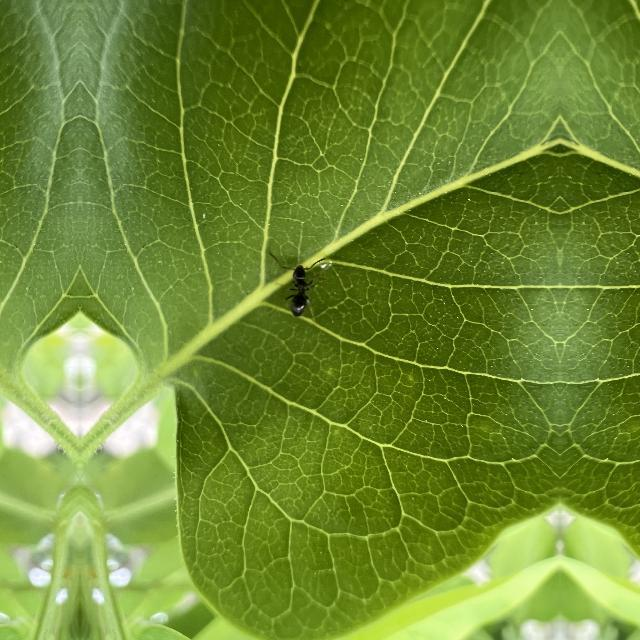Tapinoma: (278, 248, 326, 328)
